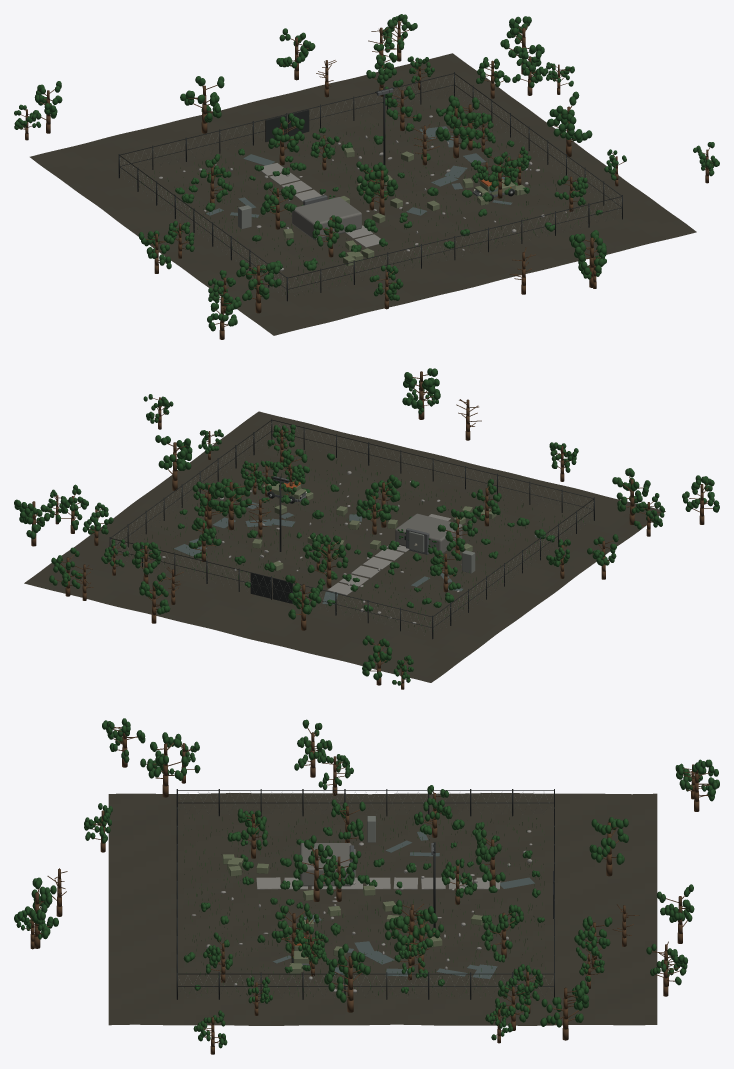
Rendered from shelter47_aaa_v2_exterior.glb.
3 views of the same model, one above another, from view 1: azimuth 30°, elevation 25°; view 2: azimuth 150°, elevation 25°; view 3: azimuth 270°, elevation 25° (orthographic). The views are drawn at different scales.
Visible parts, largest first — view 1: Terrain, BunkerMass, GrassField; view 2: Terrain, GrassField, BunkerMass; view 3: Terrain, GrassField, BunkerMass, FWMid, FETop.
Boxes of the visible parts, box(x1,y1,x2,y2) form: Terrain: box(30, 53, 696, 335); BunkerMass: box(292, 197, 361, 239); GrassField: box(136, 105, 609, 294); Terrain: box(24, 411, 665, 682); GrassField: box(127, 445, 583, 632); BunkerMass: box(395, 513, 462, 553); Terrain: box(108, 793, 657, 1025); GrassField: box(183, 814, 545, 996); BunkerMass: box(300, 843, 351, 886); FWMid: box(178, 802, 553, 803); FETop: box(178, 973, 553, 974).
Size of the model in its own units: 62.67 by 8.64 by 61.77.
